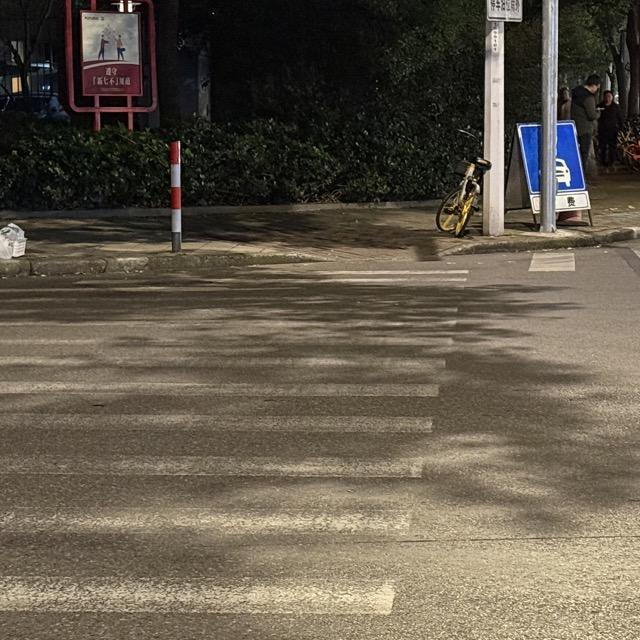curb: (0, 248, 328, 278), (440, 227, 639, 256), (184, 200, 439, 215), (0, 208, 169, 219)
